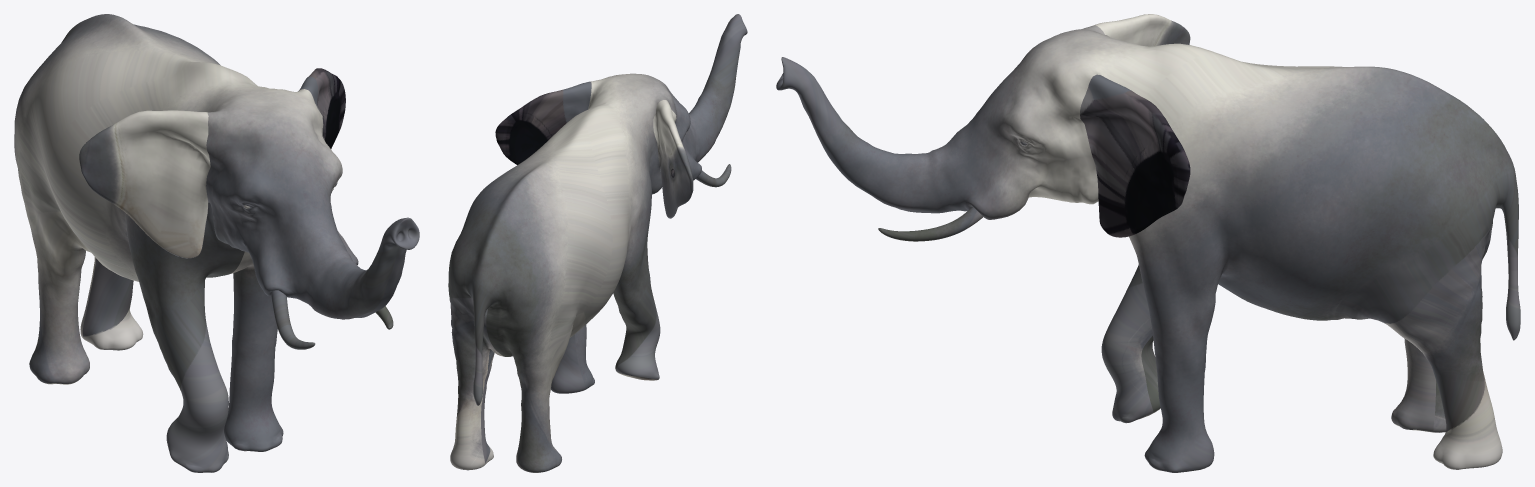
The model's file is Elefante.obj.
3 renders of one model, left to right at view 1: azimuth 30°, elevation 25°; view 2: azimuth 150°, elevation 25°; view 3: azimuth 270°, elevation 25°, orthographic. The views are drawn at different scales.
Visible parts, largest first — view 1: Object_0; view 2: Object_0; view 3: Object_0.
Boxes of the visible parts, x1=… form: Object_0: x1=14, y1=14, x2=419, y2=472; Object_0: x1=448, y1=14, x2=747, y2=472; Object_0: x1=776, y1=14, x2=1520, y2=472.
Bounding box in the file's own units: 21.42 × 29.76 × 49.83.
